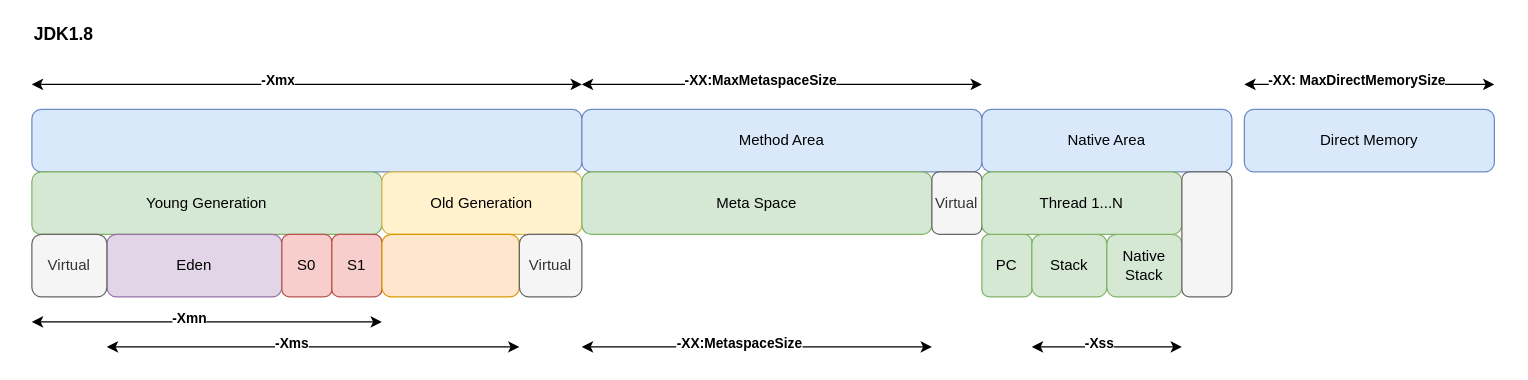
This 1528x380 diagram has some shape labels left out. The shapes that lost their labels are listed below. From the top down, each one's centre as x and y in pixels, then its label:
At (306,140): "Heap".
At (1206,234): "Native".
At (450,265): "Tenured".
